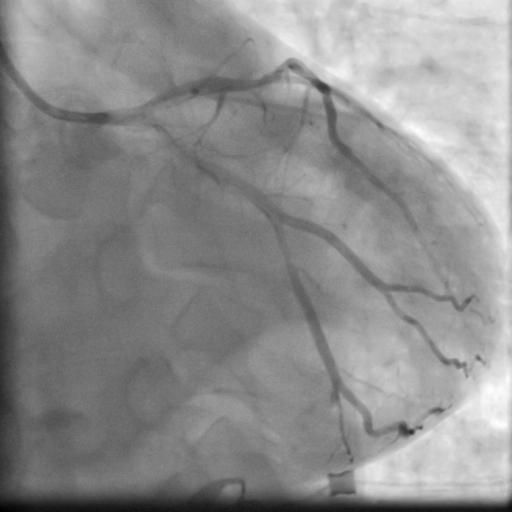Stenosis: (276, 232, 297, 276)
